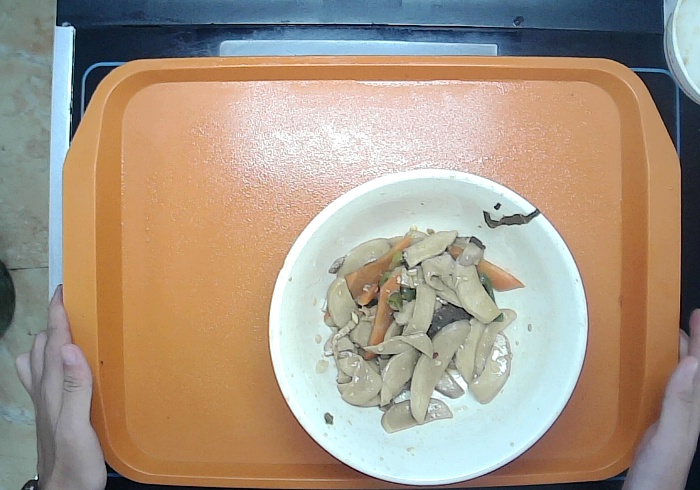ZNLD-Da_Tang_Wan: (266, 165, 590, 487)
